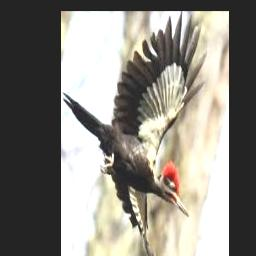Woodpecker: (62, 11, 207, 256)
